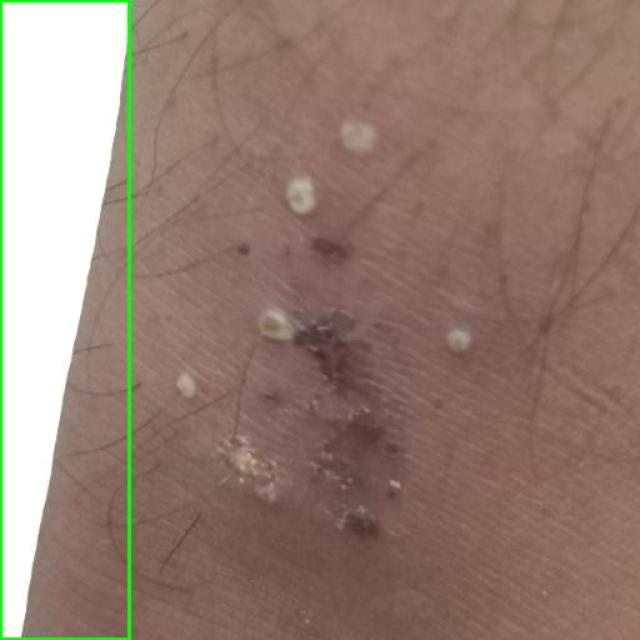Eczema: (0, 0, 129, 639)
